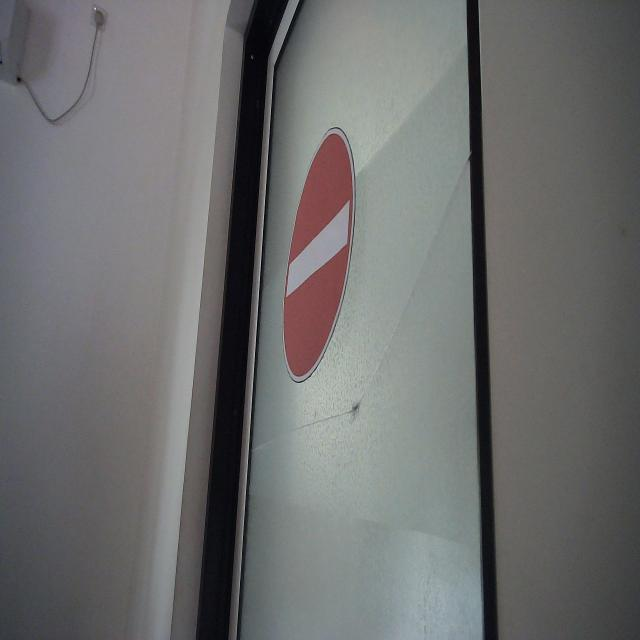no_entry: (282, 126, 358, 387)
